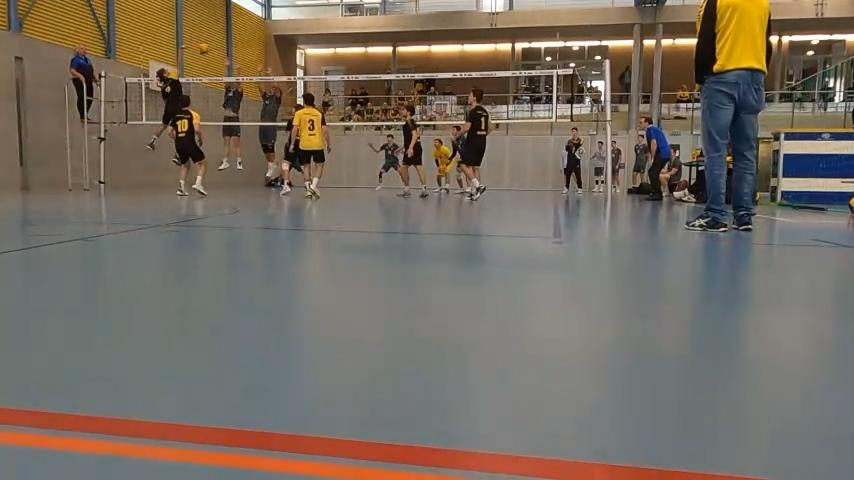attacco: (135, 40, 191, 165)
muro: (213, 58, 250, 173), (251, 61, 286, 180)
